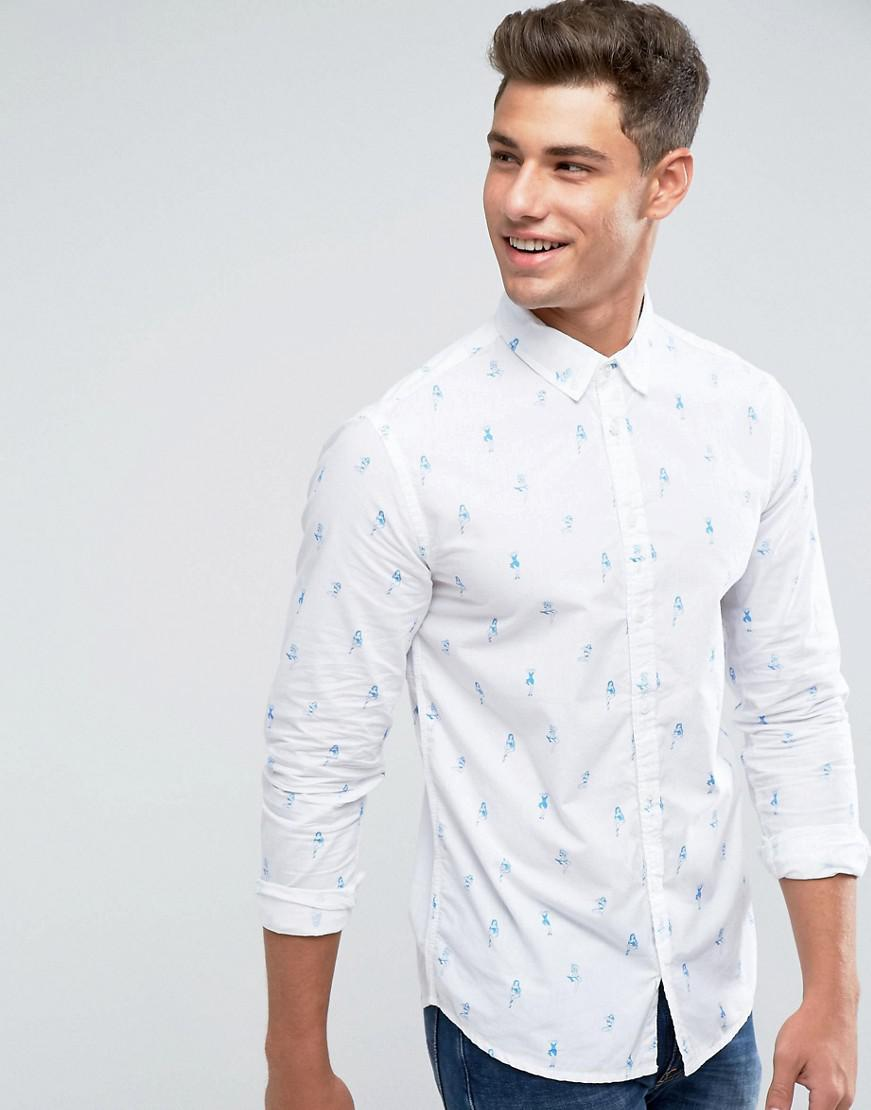teeshirt: (242, 274, 871, 1043)
